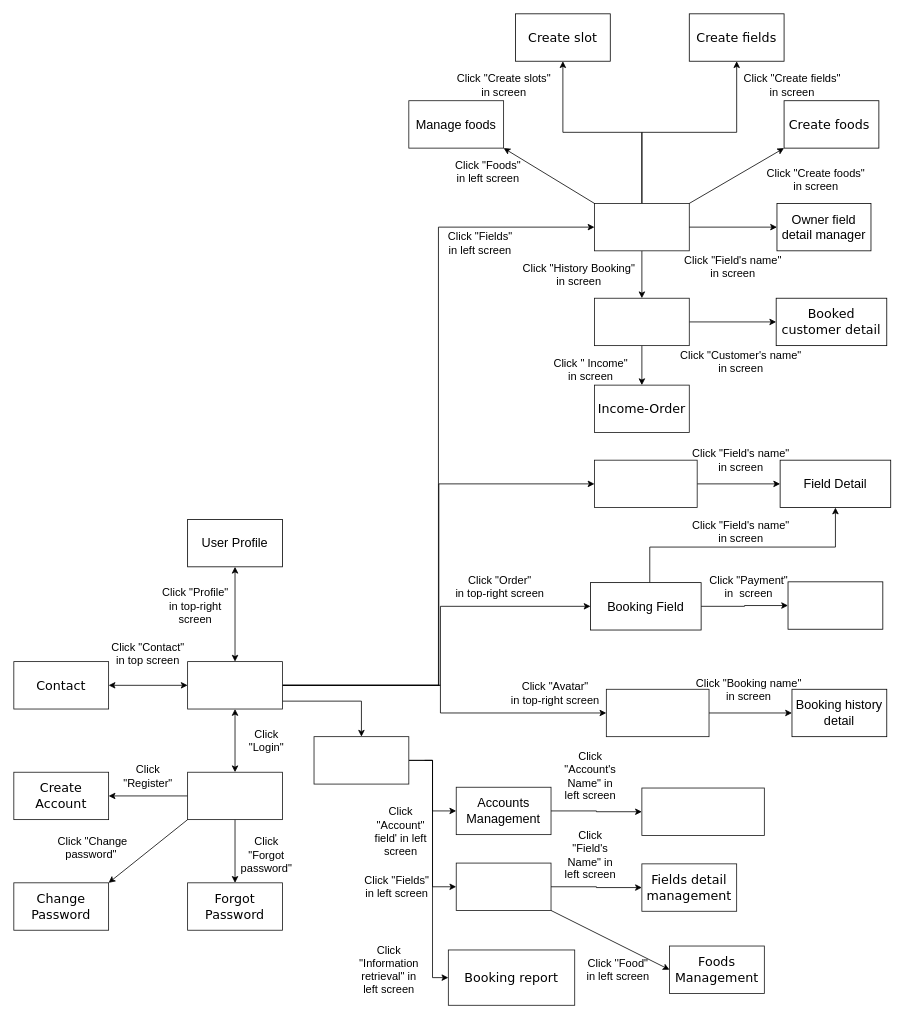
Image size: 905x1019. Some labels were removed from this diagram. The box of each missing label's shape, as (x1, y1, x2, y2) in pixels:
Accounts detail m anagement: (641, 787, 764, 835)
Admin Dashboard: (313, 736, 409, 784)
Booking History: (606, 688, 709, 737)
Fields Management: (455, 862, 551, 910)
Home: (187, 661, 282, 709)
List Field: (594, 459, 697, 508)
Manage booking history: (594, 297, 689, 346)
Owner field manager: (594, 203, 689, 251)
Payment: (787, 581, 883, 629)
Sign in: (187, 771, 282, 820)
